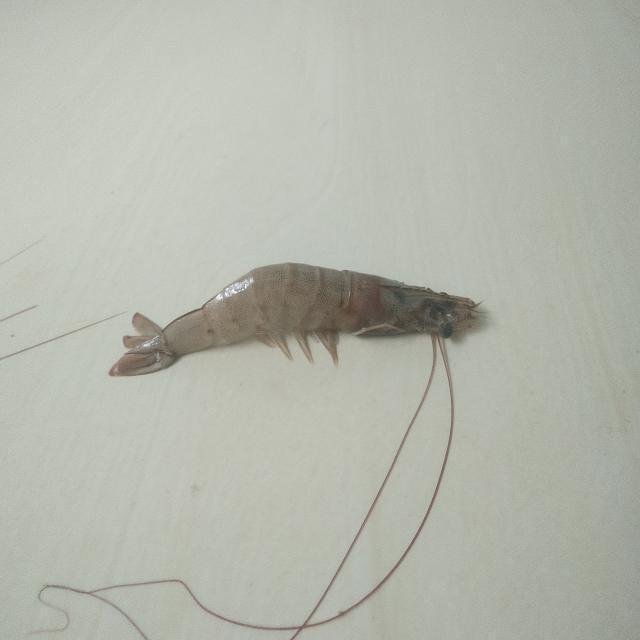shrimp: (109, 262, 478, 377)
